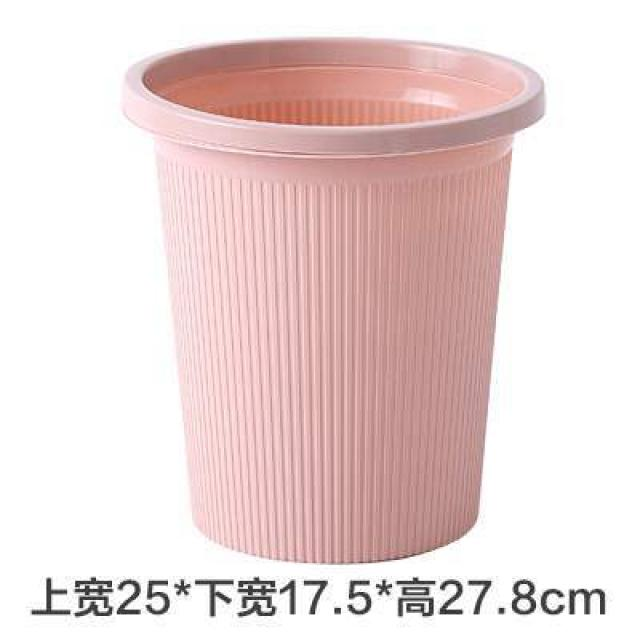dustbin: (121, 31, 546, 569)
